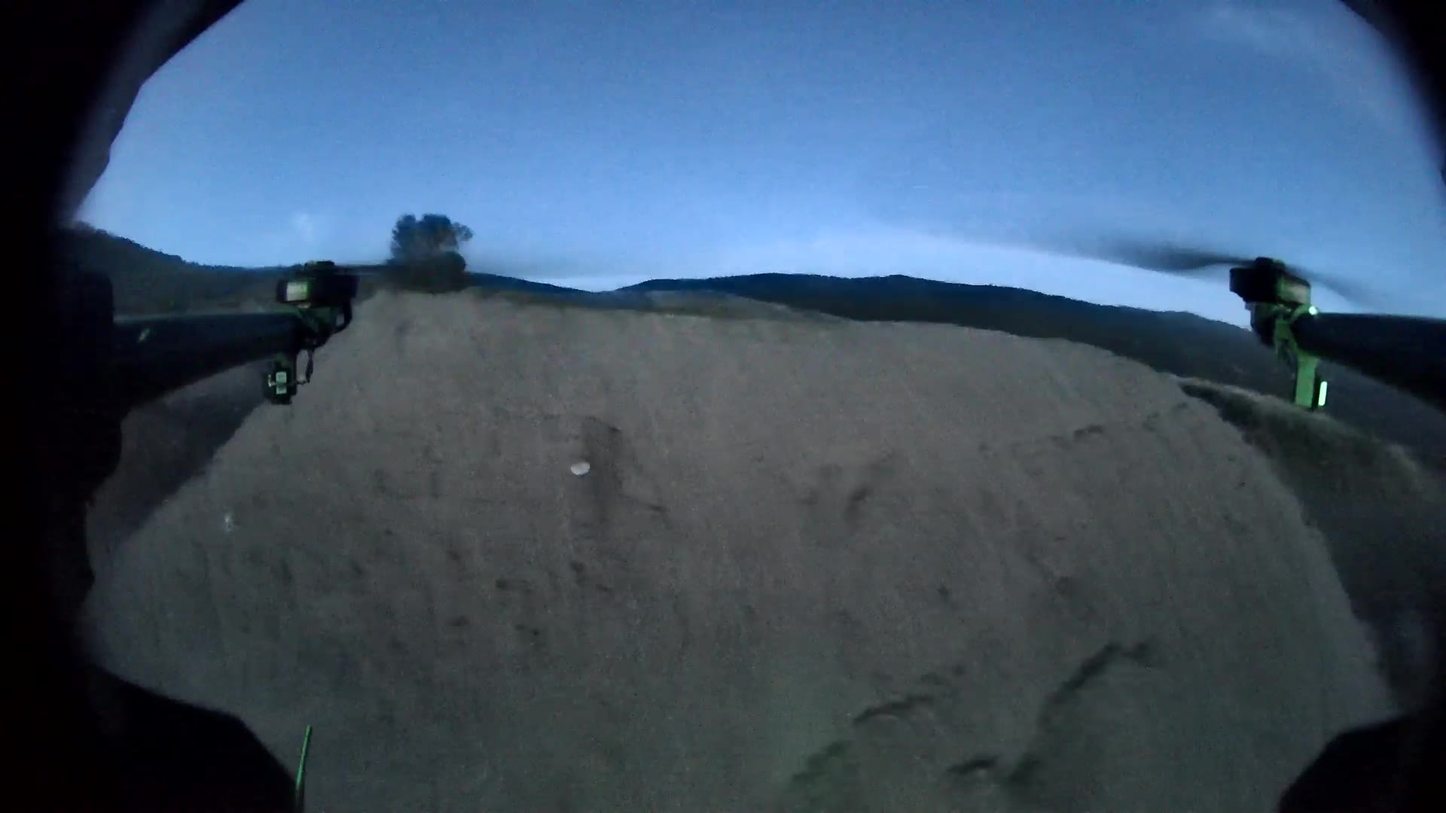Target: (568, 458, 591, 478)
